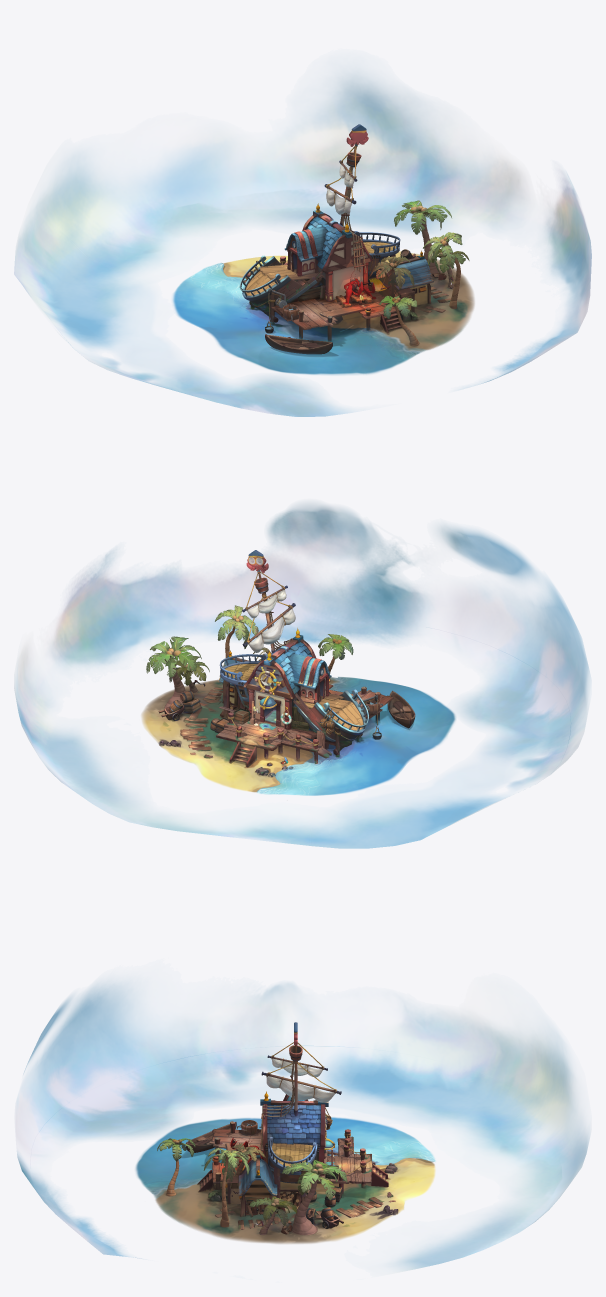
The model's file is sea_house.glb.
The picture shows the model from 3 angles, top to bottom: view 1: azimuth 30°, elevation 25°; view 2: azimuth 150°, elevation 25°; view 3: azimuth 270°, elevation 25°; orthographic projection.
Visible parts, largest first — view 1: Object_6, Object_4, Object_3, Object_2, Object_5; view 2: Object_6, Object_4, Object_3, Object_2, Object_5; view 3: Object_6, Object_4, Object_3, Object_2, Object_5.
Boxes of the visible parts, <box> form: Object_6: <box>14,71,591,416</box>; Object_4: <box>174,152,474,355</box>; Object_3: <box>172,167,467,374</box>; Object_2: <box>243,124,469,318</box>; Object_5: <box>239,143,419,317</box>; Object_6: <box>14,502,590,848</box>; Object_4: <box>141,577,444,792</box>; Object_3: <box>142,593,455,795</box>; Object_2: <box>146,550,366,729</box>; Object_5: <box>183,569,378,748</box>; Object_6: <box>15,981,591,1271</box>; Object_4: <box>153,1045,435,1243</box>; Object_3: <box>135,1060,435,1237</box>; Object_2: <box>157,1022,347,1225</box>; Object_5: <box>245,1045,342,1228</box>.
Bounding box in the file's own units: 626 × 328 × 621.
Materials: 3 (3 with a texture image).
